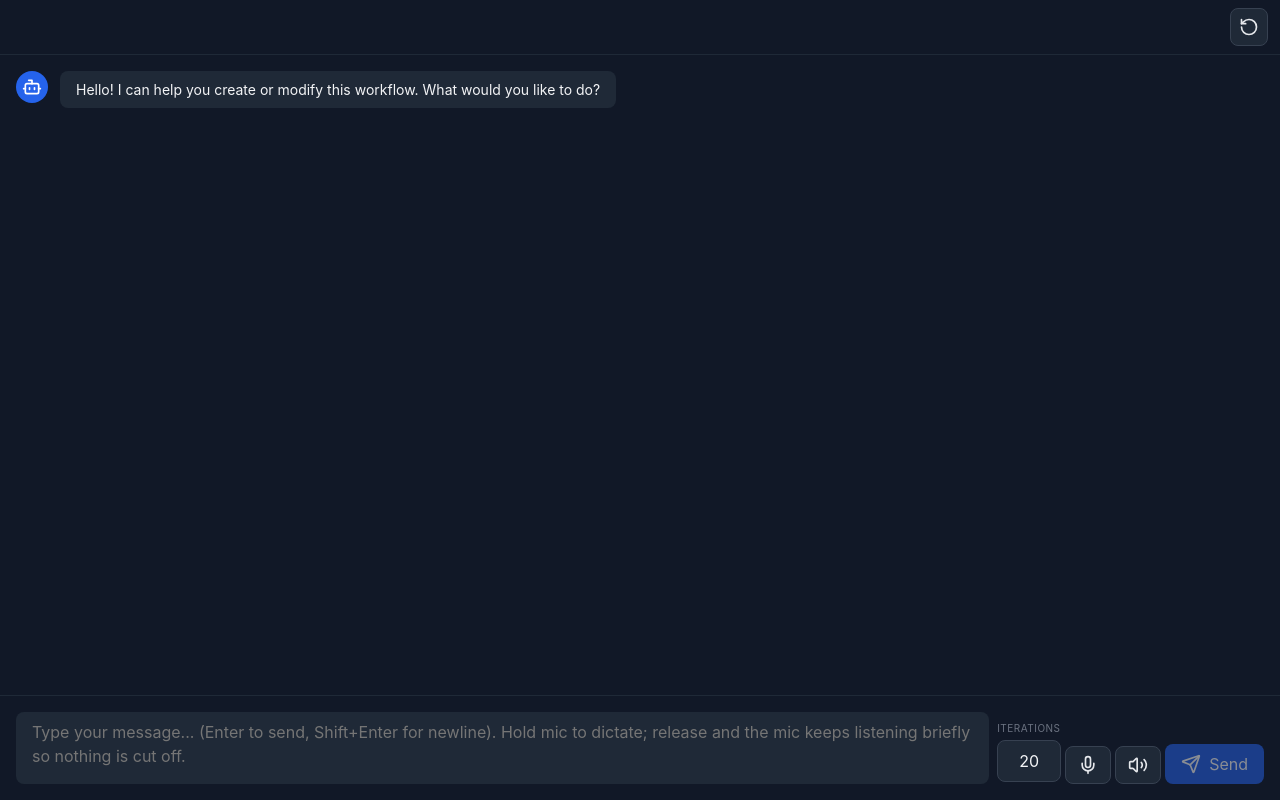
Test: WorkflowChat › should display user and assistant messages
The image size is (1280, 800).
Replace the text in the text box with placeholder "Type your message" with "User message" at (503, 748), box [16, 712, 989, 784]
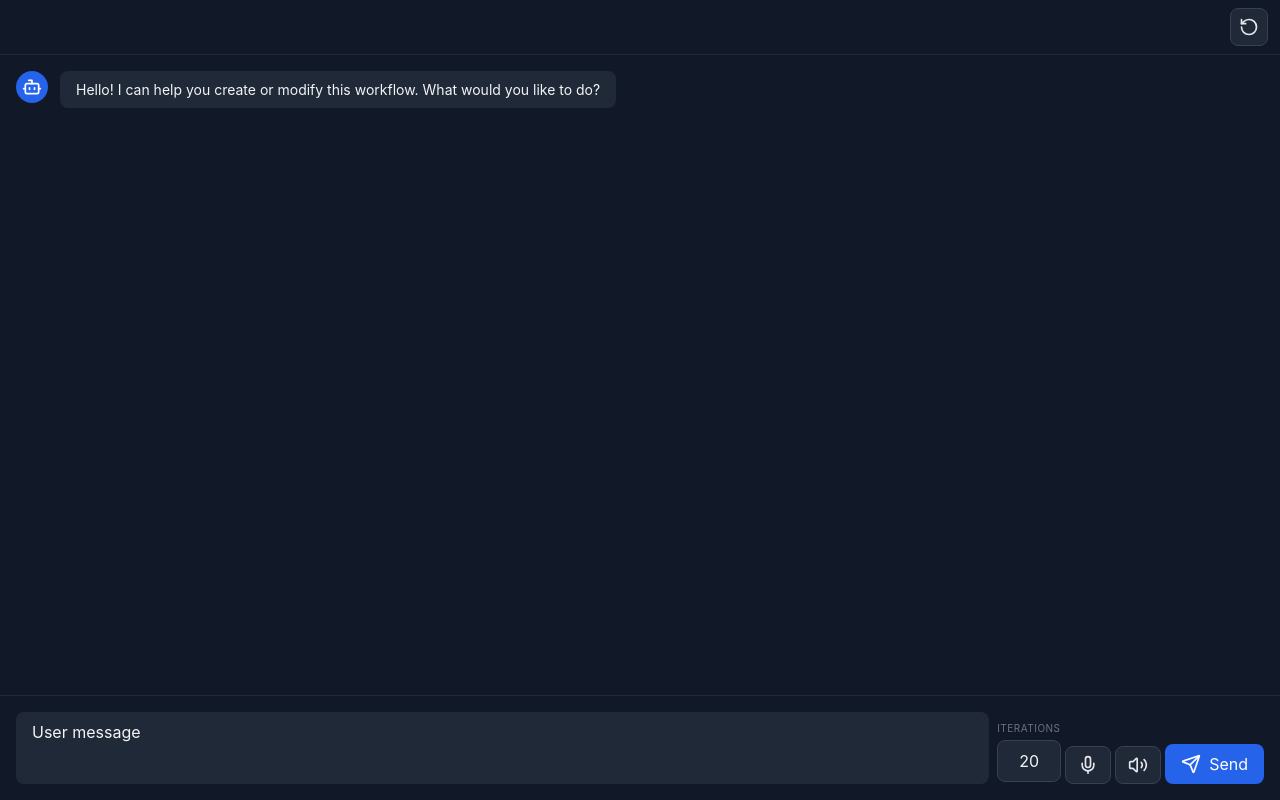
Click the button "Send" at (1215, 764), box [1165, 744, 1264, 784]
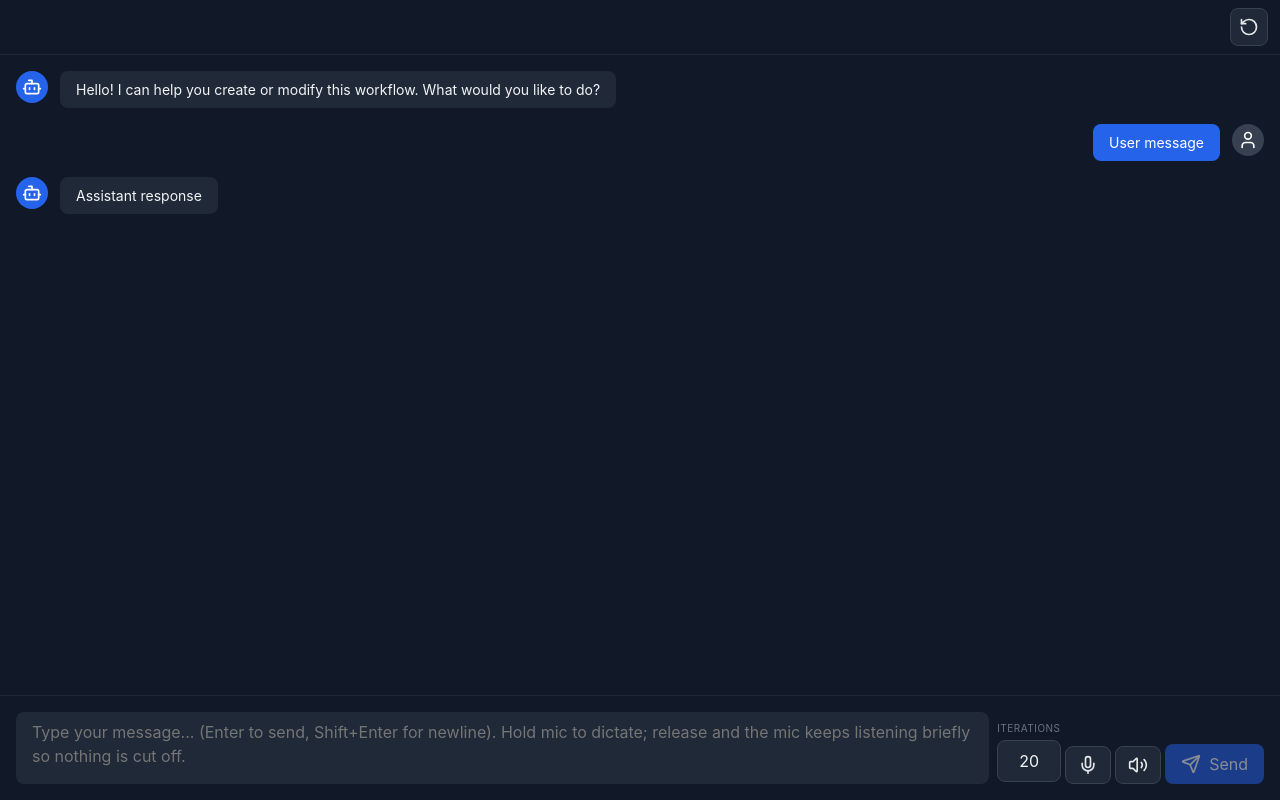
expect the text "User message" is shown: met, box [1109, 132, 1204, 153]
expect the text "Assistant response" is shown: met, box [76, 185, 202, 206]
